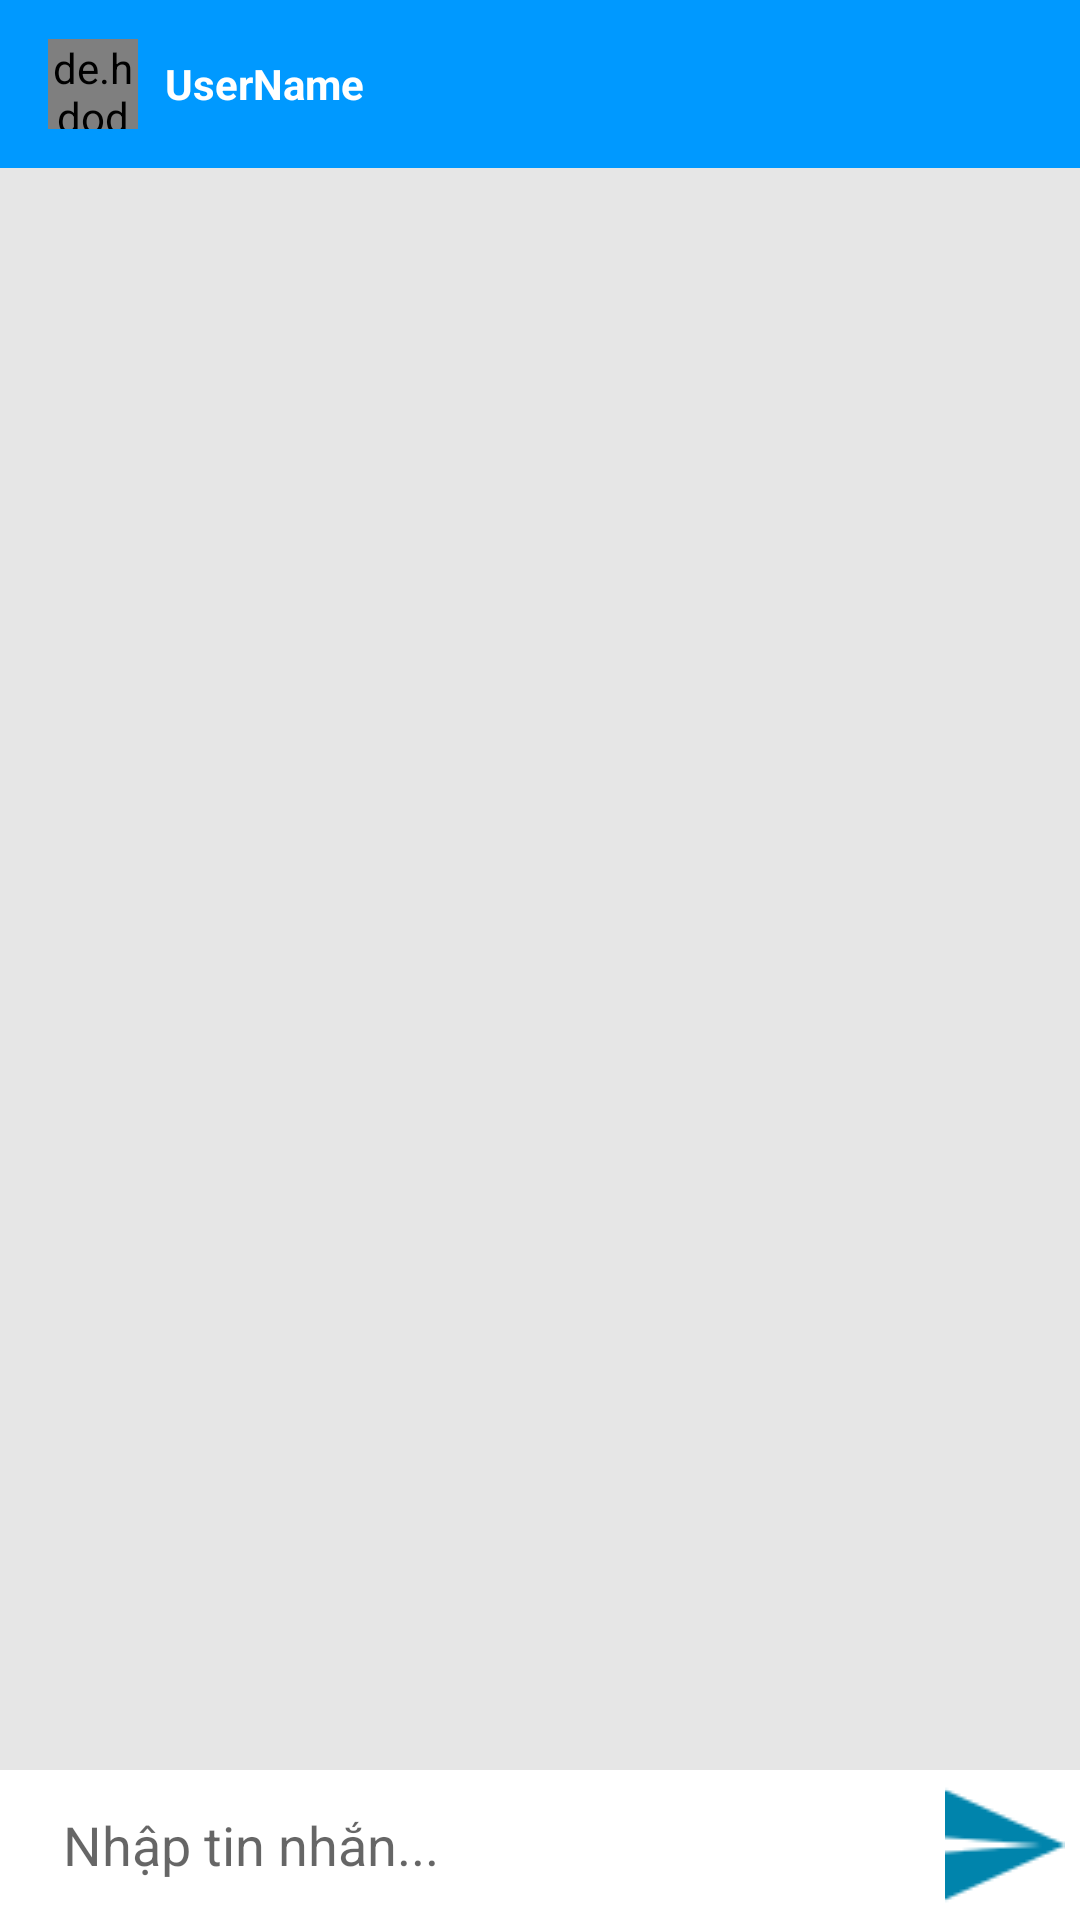

Icon click points for this 1080 × 1920 phone screenshot, format (x=x, y=y):
send message: (x=1005, y=1845)
